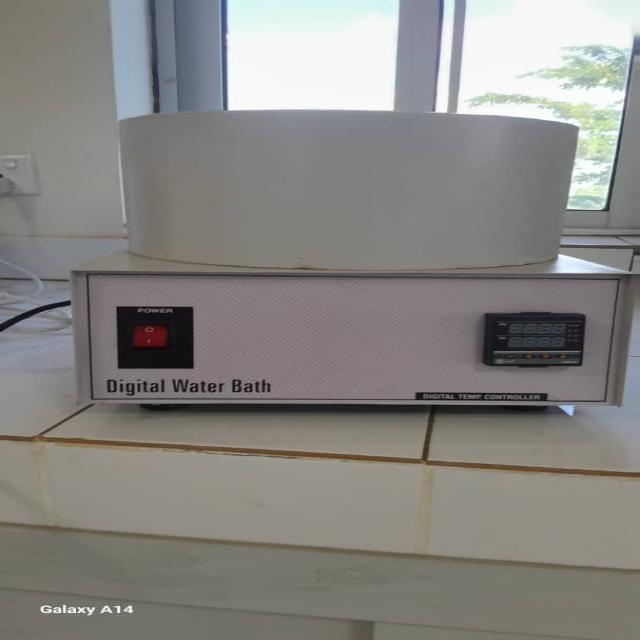Water-Oil Bath: (83, 106, 632, 430)
